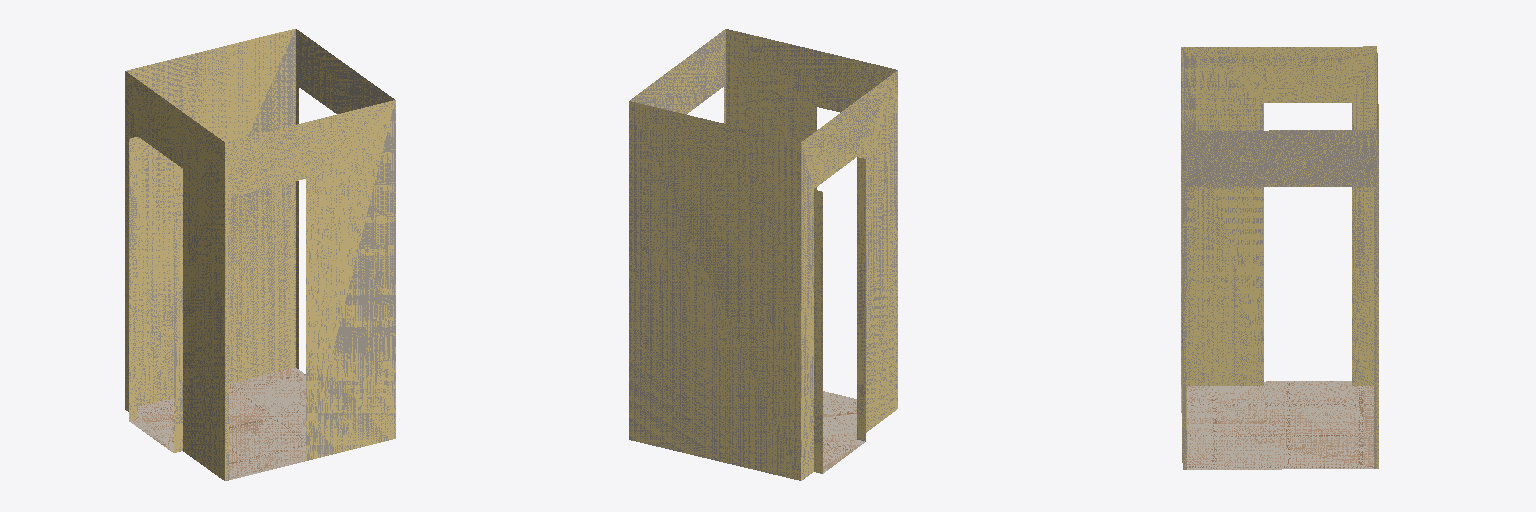
3 renders of one model, left to right at view 1: azimuth 30°, elevation 25°; view 2: azimuth 150°, elevation 25°; view 3: azimuth 270°, elevation 25°, orthographic.
Visible parts, largest first — view 1: Mesh1 COM026 Model; view 2: Mesh1 COM026 Model; view 3: Mesh1 COM026 Model.
Boxes of the visible parts, x1,y1,x2,y2 form: Mesh1 COM026 Model: [125, 29, 395, 480]; Mesh1 COM026 Model: [629, 29, 897, 480]; Mesh1 COM026 Model: [1181, 46, 1378, 469].
Bounding box in the file's own units: 2.02 × 3.6 × 1.91.
Materials: 3 (1 with a texture image).